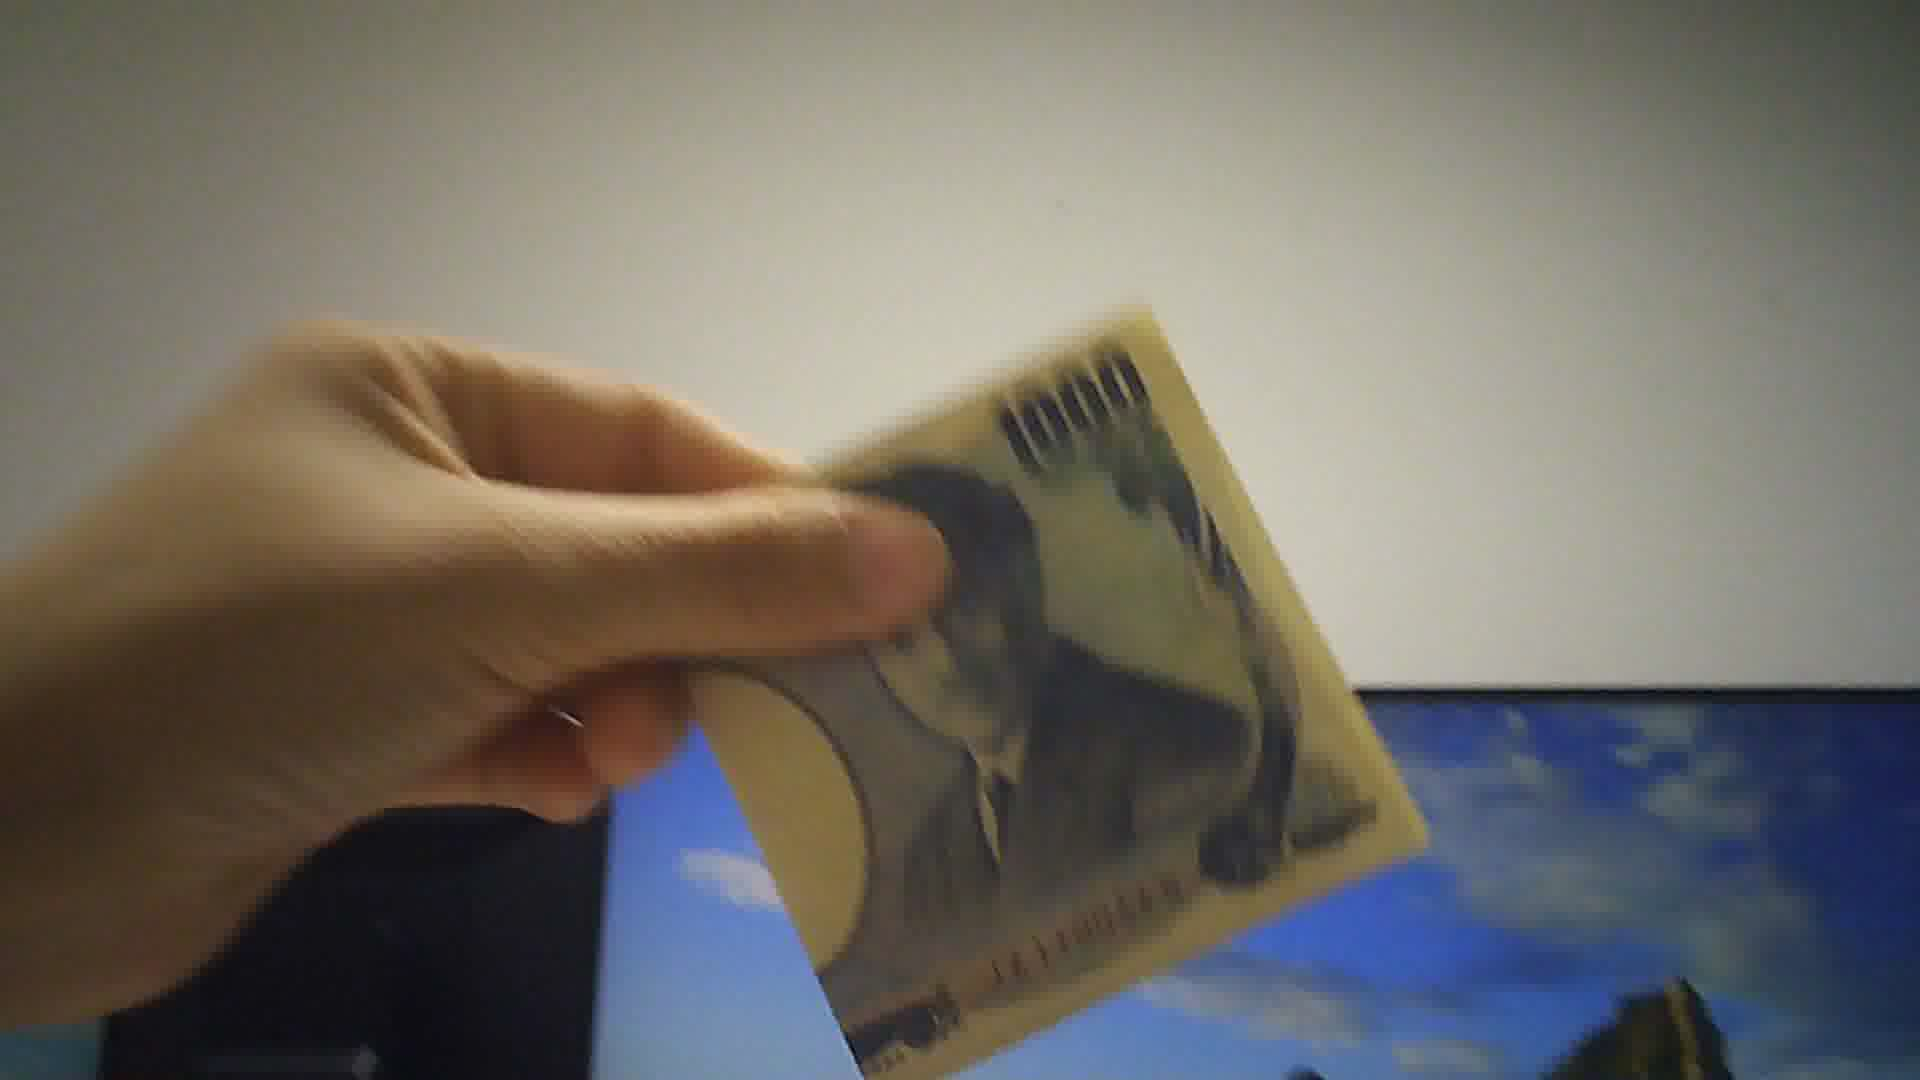1,000 Yen: (650, 309, 1432, 1079)
